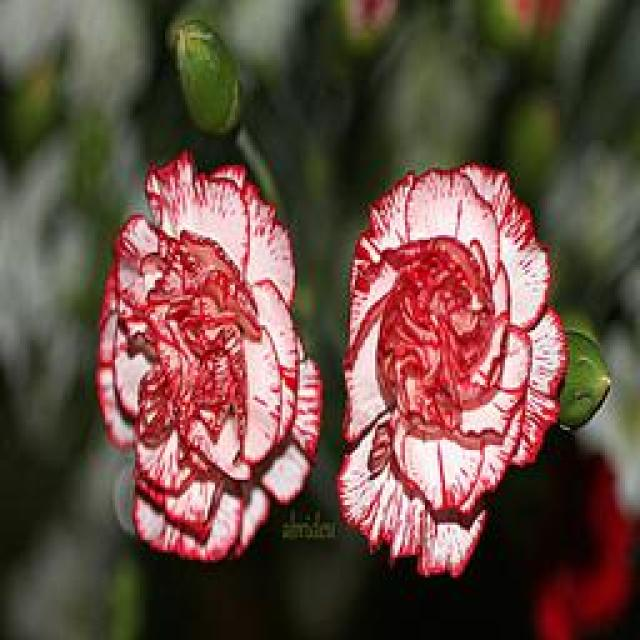carnation: (79, 136, 333, 572)
